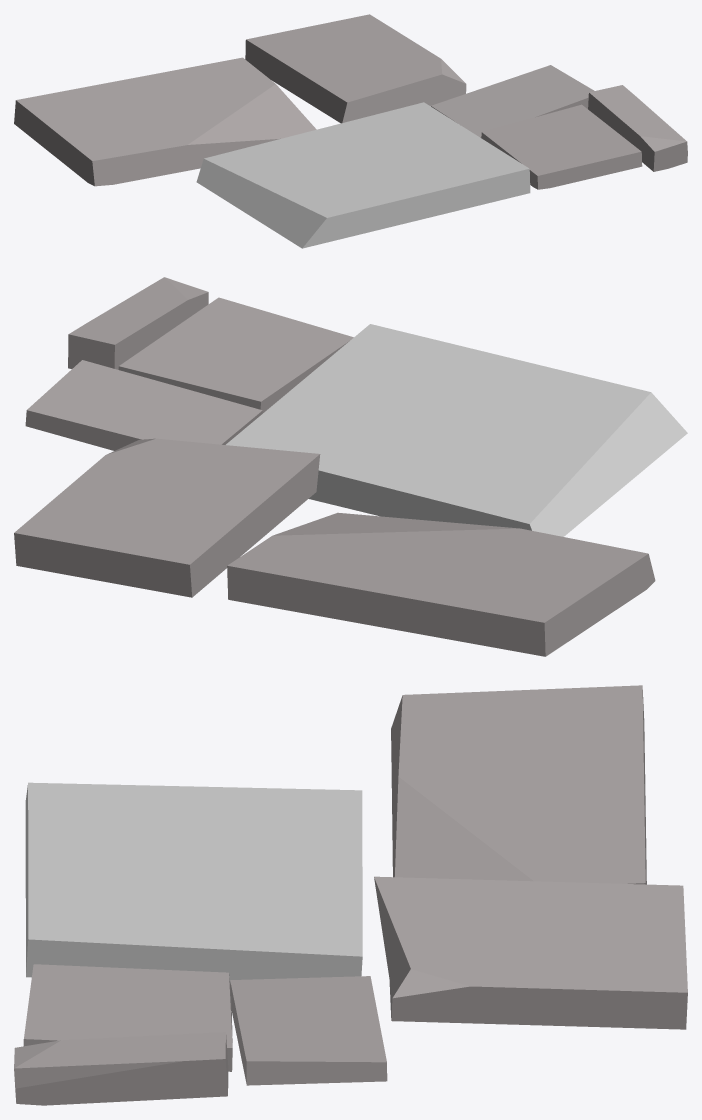
File: Path_Cobblestone_Env_04.glb
The picture shows the model from 3 angles, top to bottom: view 1: azimuth 30°, elevation 25°; view 2: azimuth 150°, elevation 25°; view 3: azimuth 270°, elevation 25°; orthographic projection. The views are drawn at different scales.
Visible parts, largest first — view 1: Path_Cobblestone_Env_04; view 2: Path_Cobblestone_Env_04; view 3: Path_Cobblestone_Env_04.
Part boxes in pixels (x1,y1,x2,y2): Path_Cobblestone_Env_04: (14,14,687,248); Path_Cobblestone_Env_04: (14,277,687,656); Path_Cobblestone_Env_04: (14,685,687,1105).
Size of the model in its own units: 3.44 by 0.3009 by 2.66.
Materials: 1 (1 with a texture image).
